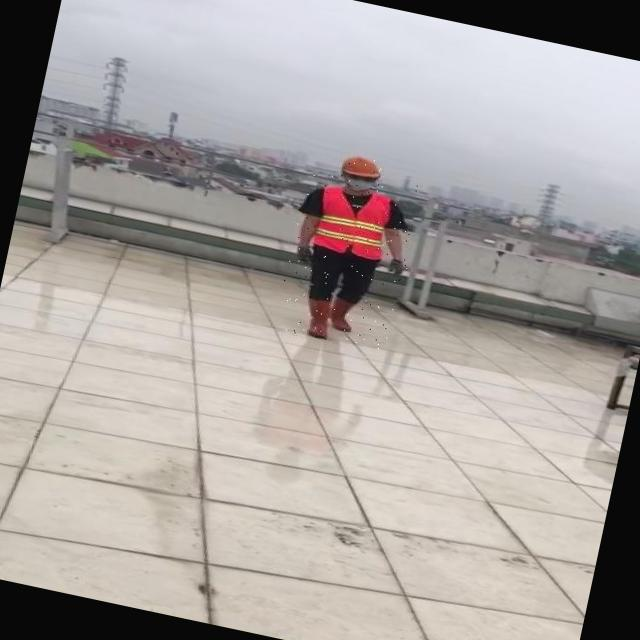boots: (298, 294, 335, 338), (324, 291, 359, 334)
gloves: (379, 243, 418, 287), (290, 232, 320, 268)
helmet: (338, 152, 382, 180)
vest: (310, 182, 395, 264)
